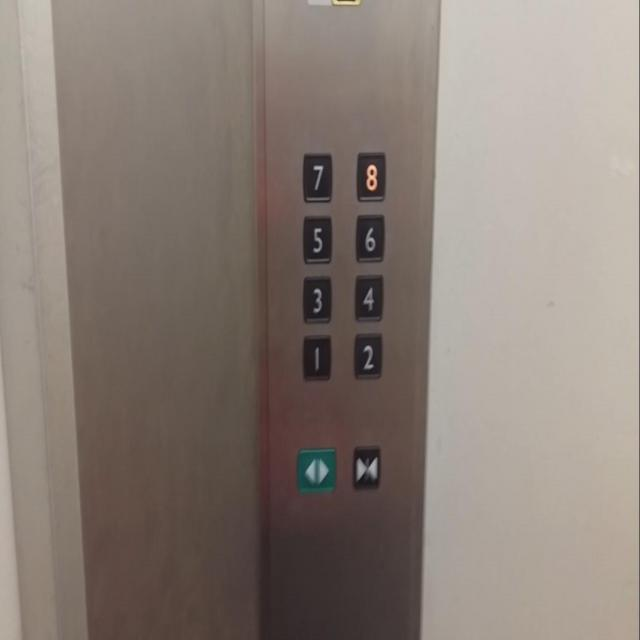1: (302, 333, 331, 380)
2: (354, 332, 382, 379)
3: (303, 274, 332, 324)
4: (354, 273, 383, 322)
5: (302, 214, 333, 264)
6: (355, 213, 385, 264)
7: (302, 152, 333, 203)
8: (355, 151, 386, 202)
close: (352, 442, 381, 490)
open: (297, 447, 336, 492)
